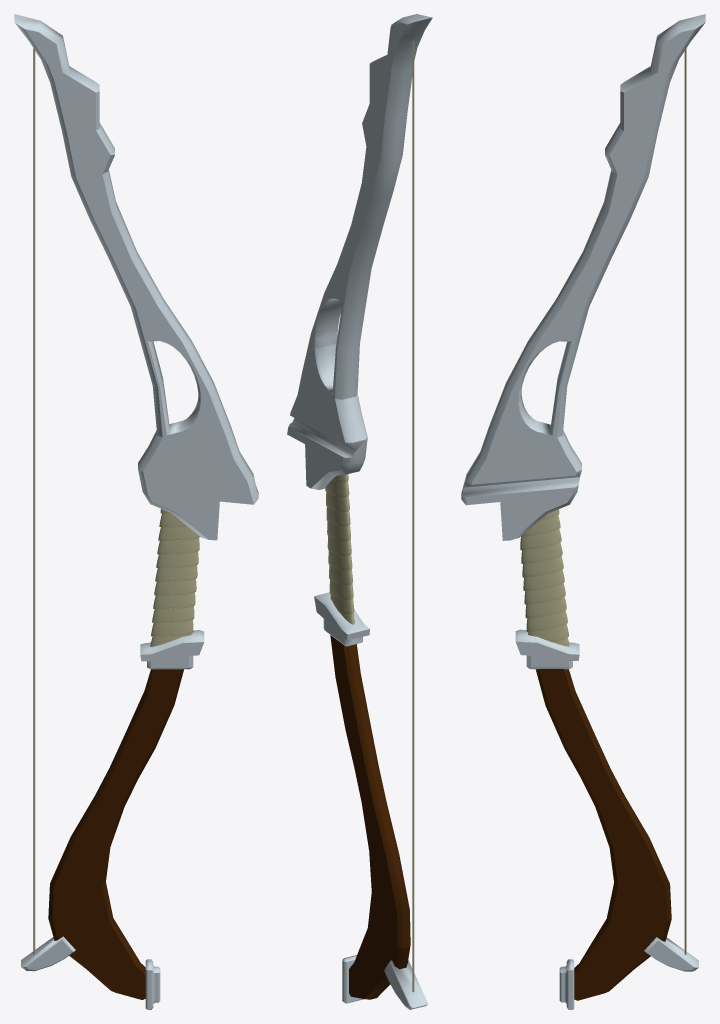
File: RaviBow.fbx
The picture shows the model from 3 angles, left to right: view 1: azimuth 90°, elevation 25°; view 2: azimuth 210°, elevation 25°; view 3: azimuth 270°, elevation 25°; orthographic projection. The views are drawn at different scales.
Visible parts, largest first — view 1: Bow(Export); view 2: Bow(Export); view 3: Bow(Export).
Boxes of the visible parts, bbox=[...] form: Bow(Export): bbox=[14, 14, 258, 1009]; Bow(Export): bbox=[287, 14, 432, 1009]; Bow(Export): bbox=[461, 14, 705, 1009].
Bounding box in the file's own units: 22.35 × 937 × 210.
